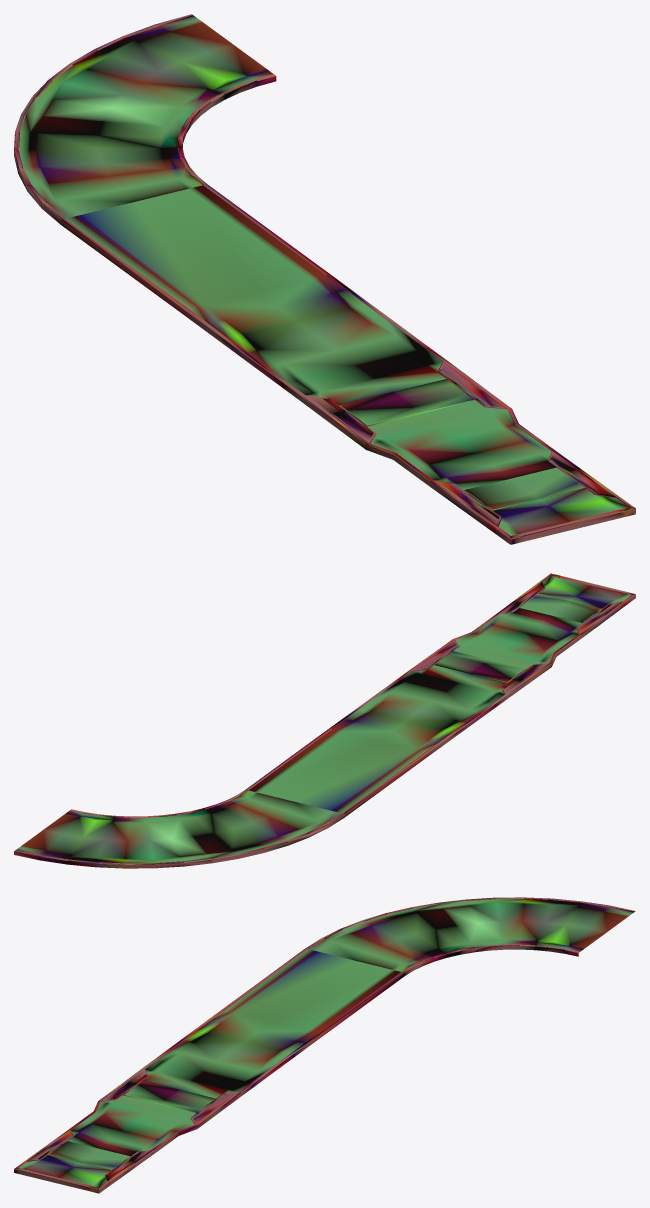
Rendered from CS_Grounds_Driveway01.gltf.
3 renders of one model, top to bottom at view 1: azimuth 30°, elevation 25°; view 2: azimuth 150°, elevation 25°; view 3: azimuth 330°, elevation 25°, orthographic. The views are drawn at different scales.
Parts seen in each view (by area): view 1: CS_Grounds_Driveway01; view 2: CS_Grounds_Driveway01; view 3: CS_Grounds_Driveway01.
Part boxes in pixels (box(x1,y1,x2,y2)): CS_Grounds_Driveway01: box(14, 14, 635, 544); CS_Grounds_Driveway01: box(14, 573, 635, 868); CS_Grounds_Driveway01: box(14, 897, 635, 1193).
Bounding box in the file's own units: 91.39 × 2.14 × 316.
